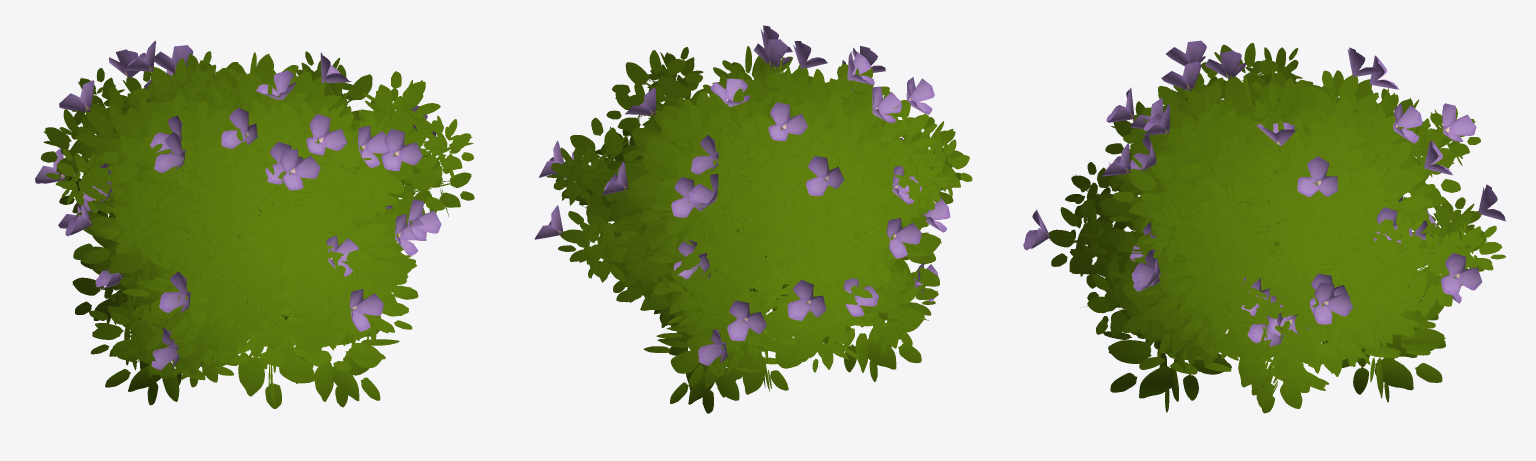
The model's file is Bush_Common_Flowers.gltf.
The picture shows the model from 3 angles, left to right: view 1: azimuth 30°, elevation 25°; view 2: azimuth 150°, elevation 25°; view 3: azimuth 270°, elevation 25°; orthographic projection. The views are drawn at different scales.
Parts seen in each view (by area): view 1: Bush_Common_Flowers; view 2: Bush_Common_Flowers; view 3: Bush_Common_Flowers.
Boxes of the visible parts, box(x1,y1,x2,y2) form: Bush_Common_Flowers: box(35, 40, 474, 408); Bush_Common_Flowers: box(534, 25, 972, 413); Bush_Common_Flowers: box(1023, 40, 1506, 413).
Bounding box in the file's own units: 1.91 × 1.58 × 1.97.
Materials: 2 (2 with a texture image).
